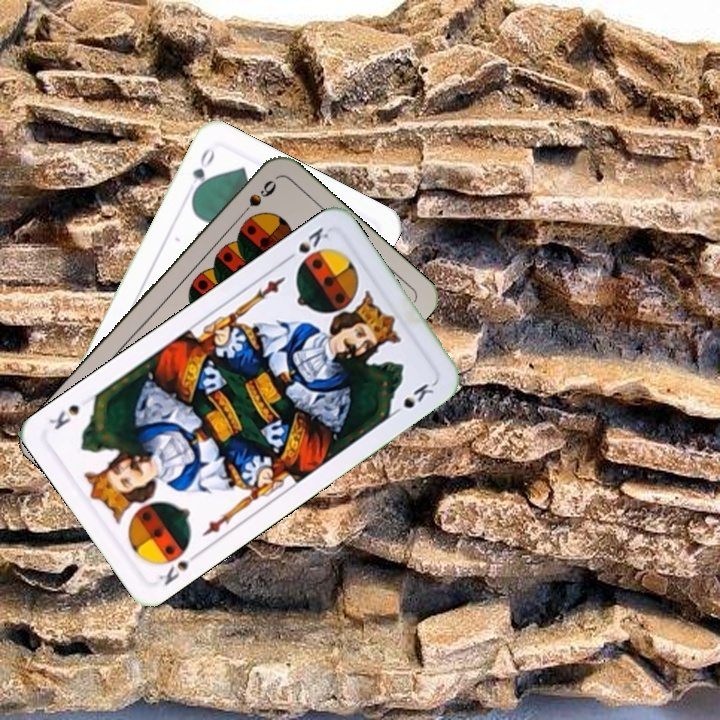GO: (188, 144, 218, 200)
S9: (233, 175, 279, 223)
SK: (280, 223, 332, 265), (155, 547, 202, 589)
